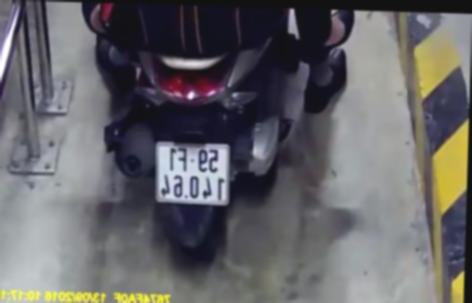License_Plate: (147, 134, 240, 214)
